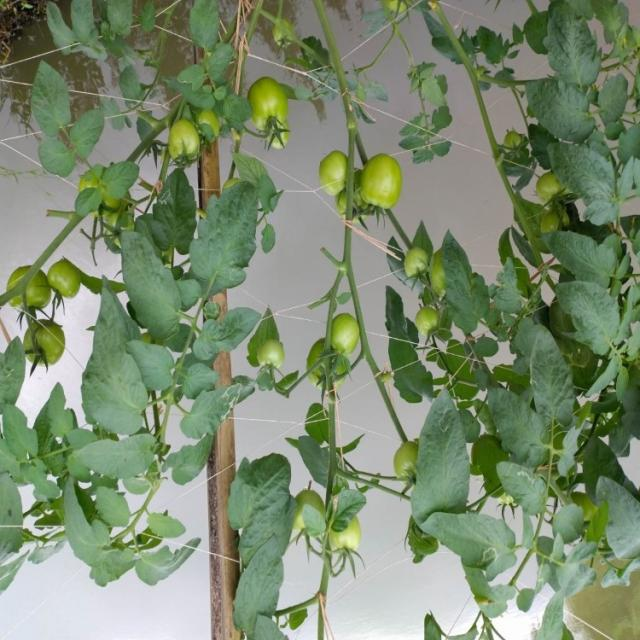tomato: (6, 258, 67, 333), (243, 58, 299, 136), (353, 152, 412, 217), (310, 147, 357, 205), (35, 256, 85, 308), (165, 116, 211, 172), (17, 311, 59, 370), (320, 306, 365, 354), (318, 527, 373, 563), (390, 247, 437, 289), (388, 444, 431, 488), (256, 326, 285, 377), (408, 313, 450, 345)
